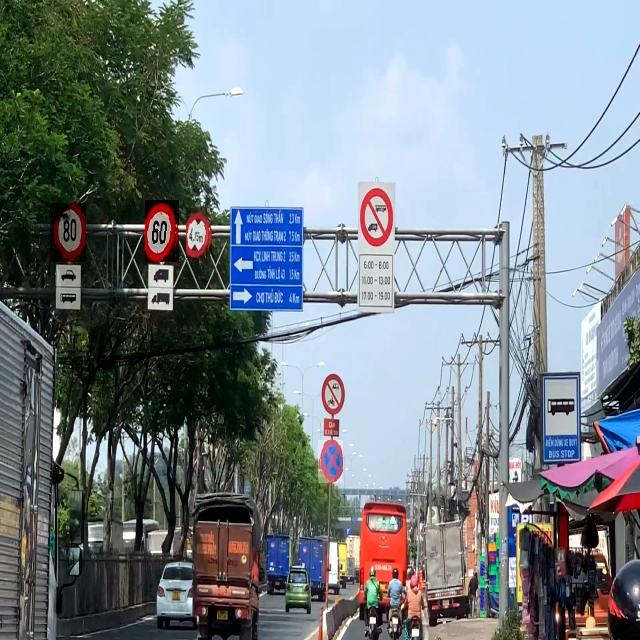bien_cam: (50, 203, 86, 262), (145, 200, 179, 262), (186, 208, 212, 258), (318, 440, 343, 483)
